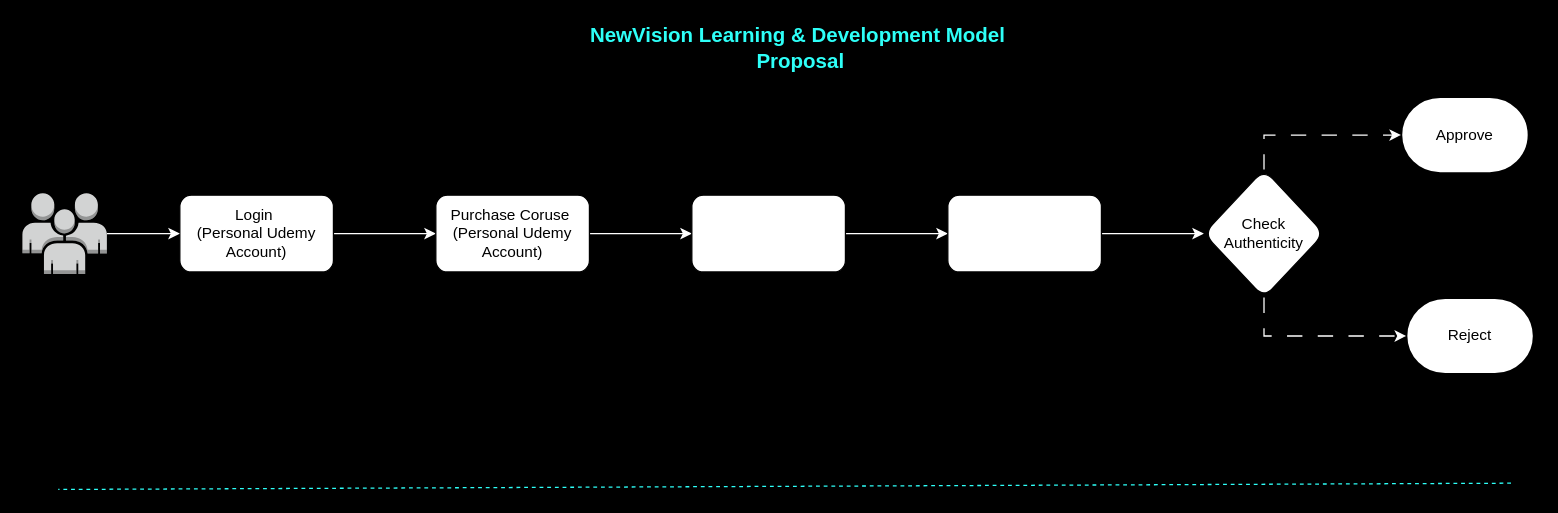
Image size: 1558x513. Some labels were removed from this diagram. Each missing label, with the centre of its shape:
Coruse Completion (Max. 15 Days): point 768,233
Send Email for Reimbursment (Within 3 Days of completion): point 1024,233
